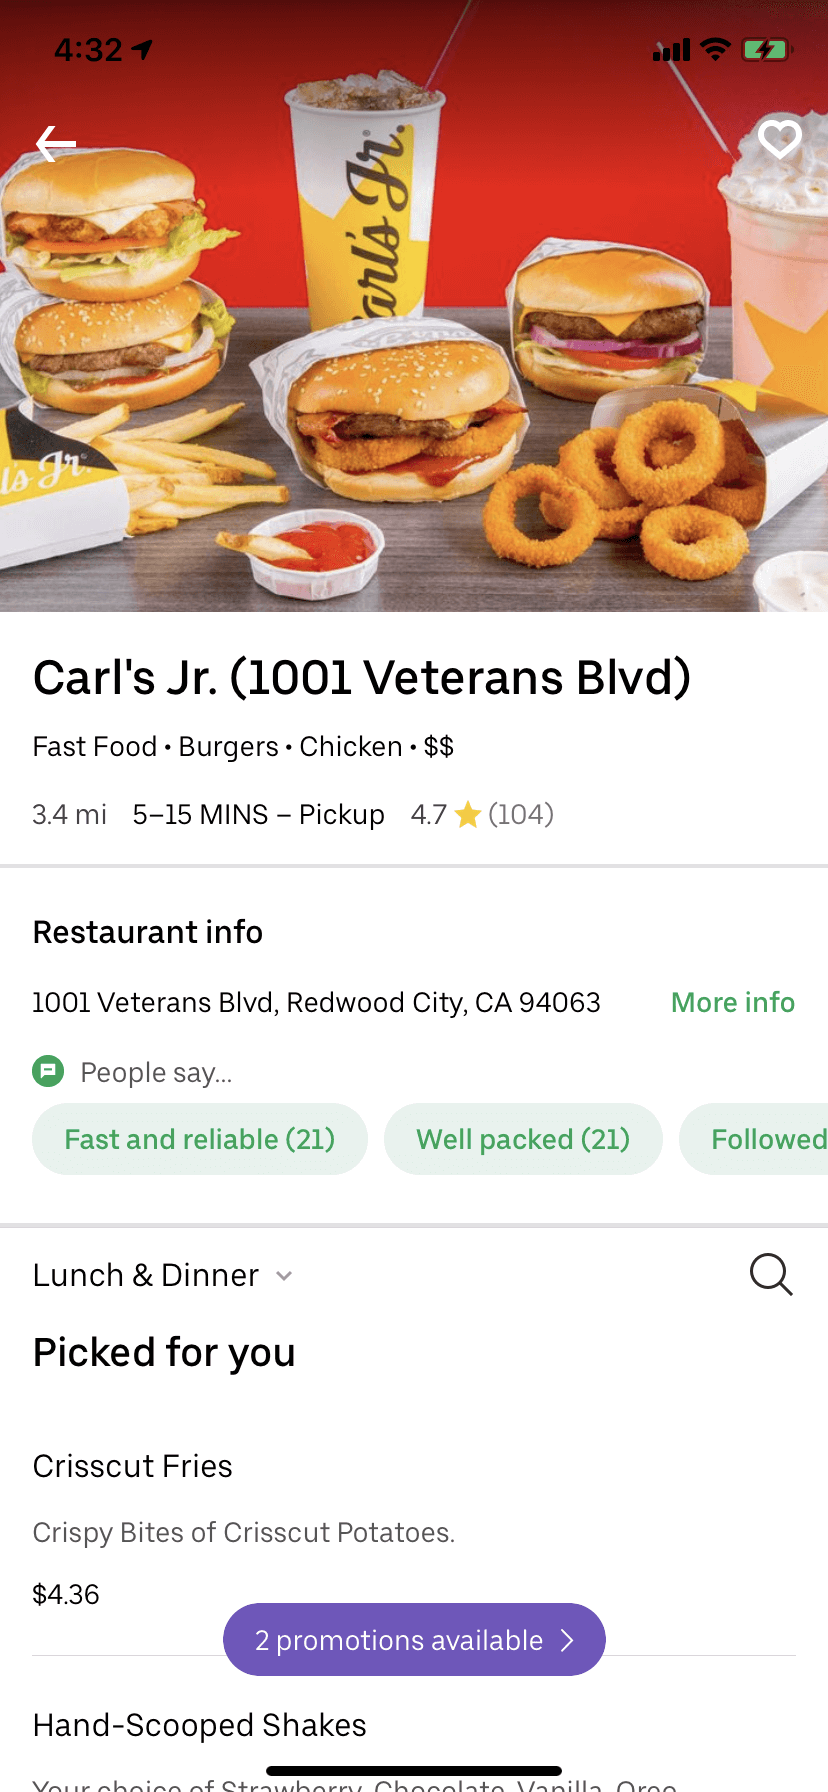Buttons: (23, 1237, 306, 1312), (13, 93, 110, 185), (738, 94, 820, 187), (722, 1238, 803, 1317)
FAB (Floating Action Button): (214, 1591, 614, 1693)
